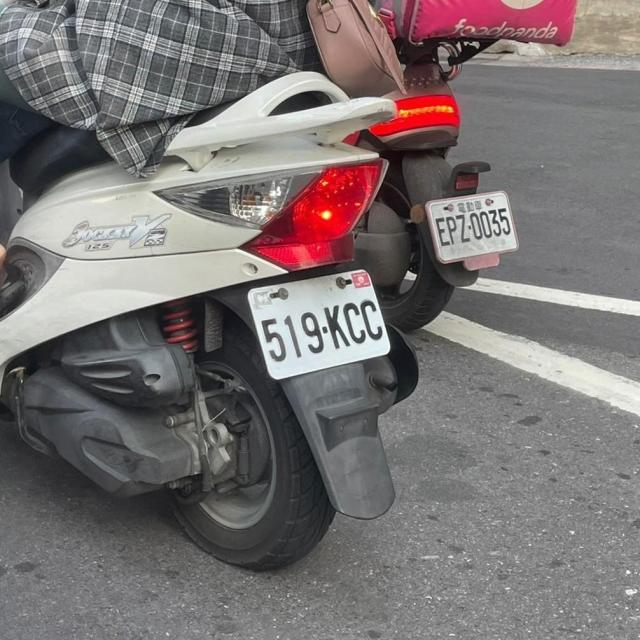W: (246, 258, 398, 384), (421, 183, 526, 265)
